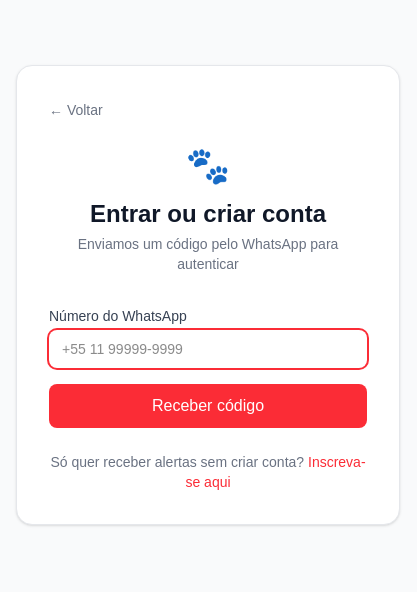
Test: LoginPage › moves to OTP step after sending code
This screenshot has width=417, height=592.
Type "+5511999000001" into the field with placeholder "+55 11 99999-9999" at (208, 349), box [49,330,367,368]
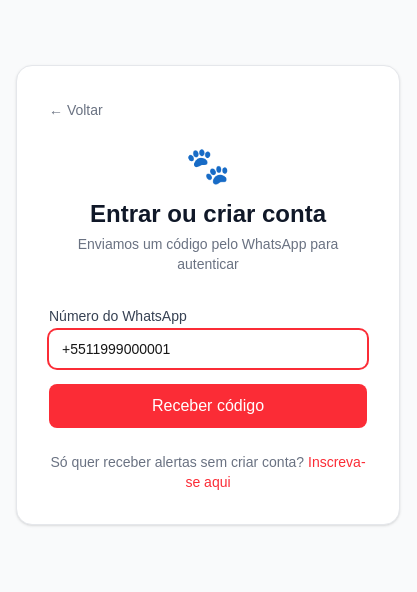
Click the button "Receber código" at (208, 406), box [49,384,367,428]
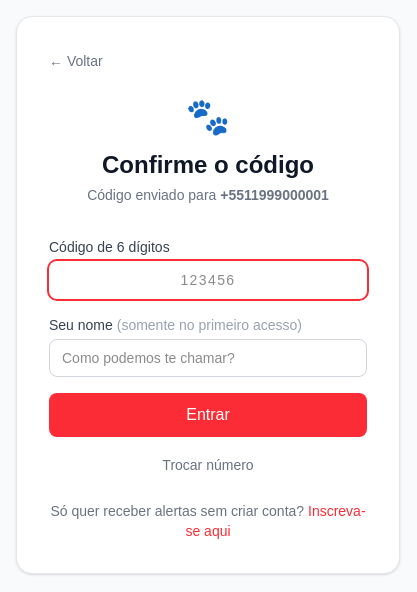
Result: the field with placeholder "123456" is shown at [49,261,367,299]
